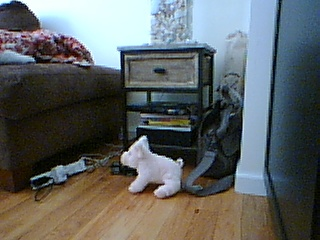piggy: (119, 134, 183, 199)
